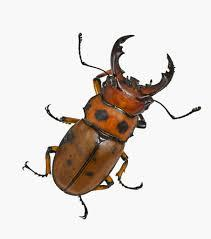Insects: (17, 27, 205, 220)
